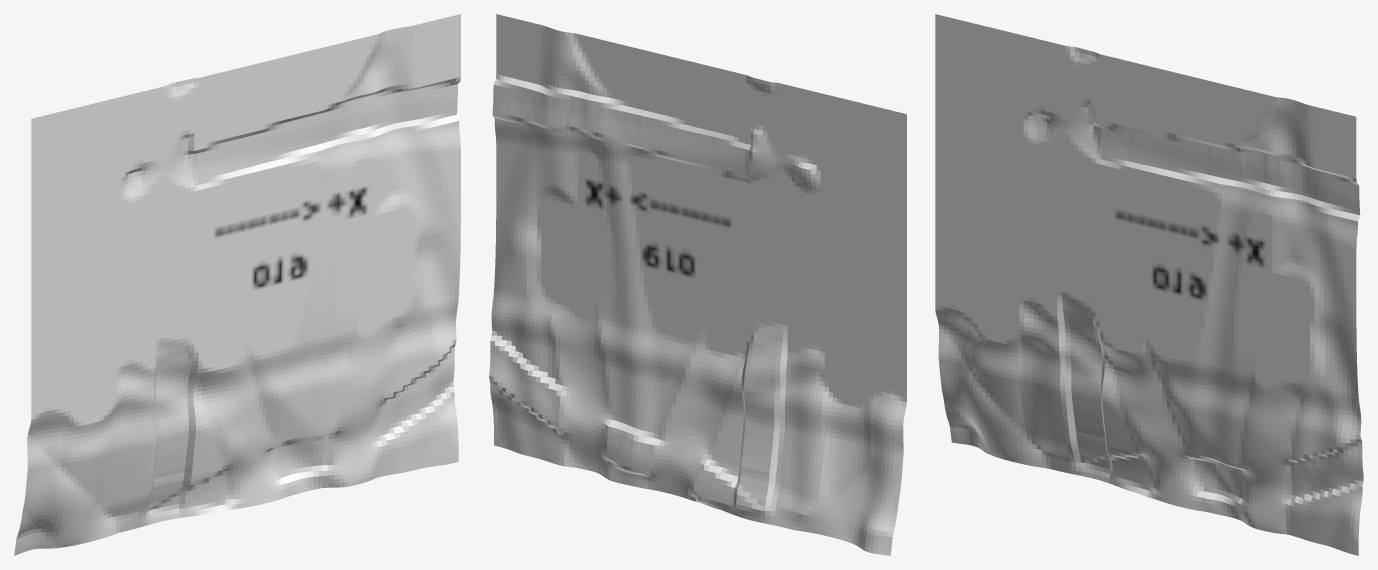
3 views of the same model, side by side, from view 1: azimuth 30°, elevation 25°; view 2: azimuth 150°, elevation 25°; view 3: azimuth 330°, elevation 25° (orthographic). The views are drawn at different scales.
Parts seen in each view (by area): view 1: Ground019; view 2: Ground019; view 3: Ground019.
Part boxes in pixels (left/top/right/bottom): Ground019: left=14, top=14, right=460, bottom=555; Ground019: left=489, top=14, right=906, bottom=555; Ground019: left=935, top=14, right=1363, bottom=555.
Size of what is drawn, in the model's own units: 100 by 7.64 by 100.
1 material, 1 textured.
